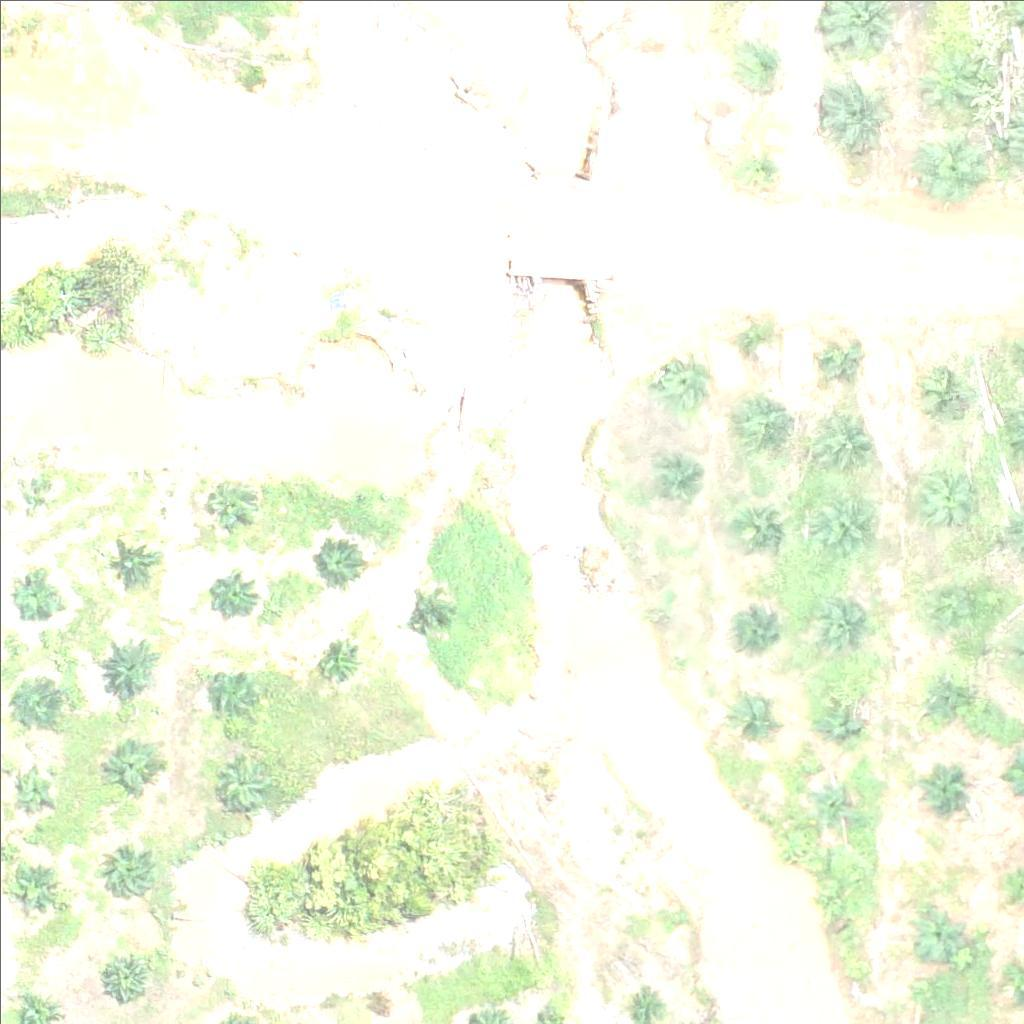Kelapa_Sawit: (819, 77, 894, 153), (927, 563, 990, 626), (812, 587, 875, 650), (814, 490, 877, 553), (918, 140, 981, 203), (727, 394, 790, 457), (813, 409, 876, 472), (98, 631, 161, 694), (913, 44, 975, 107), (918, 457, 980, 520), (913, 359, 975, 422), (728, 499, 790, 562), (4, 860, 66, 923), (813, 336, 863, 387), (727, 315, 777, 366), (13, 576, 63, 627), (9, 675, 59, 726), (111, 738, 161, 789), (217, 753, 267, 804), (206, 670, 256, 721), (206, 572, 256, 623), (106, 533, 156, 584), (103, 951, 153, 1002), (724, 601, 774, 651), (917, 770, 967, 820), (810, 775, 860, 825), (911, 906, 961, 956), (814, 690, 864, 740), (728, 691, 778, 741), (106, 849, 156, 899), (315, 533, 365, 583), (656, 350, 706, 400), (646, 455, 696, 505), (734, 142, 784, 192), (738, 35, 788, 85), (204, 472, 254, 522), (312, 637, 362, 687), (403, 581, 453, 631), (920, 666, 970, 716), (814, 880, 852, 918), (16, 772, 53, 810), (12, 482, 37, 507)
